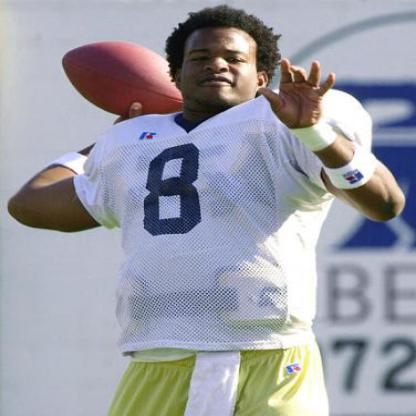face: (179, 11, 263, 112)
